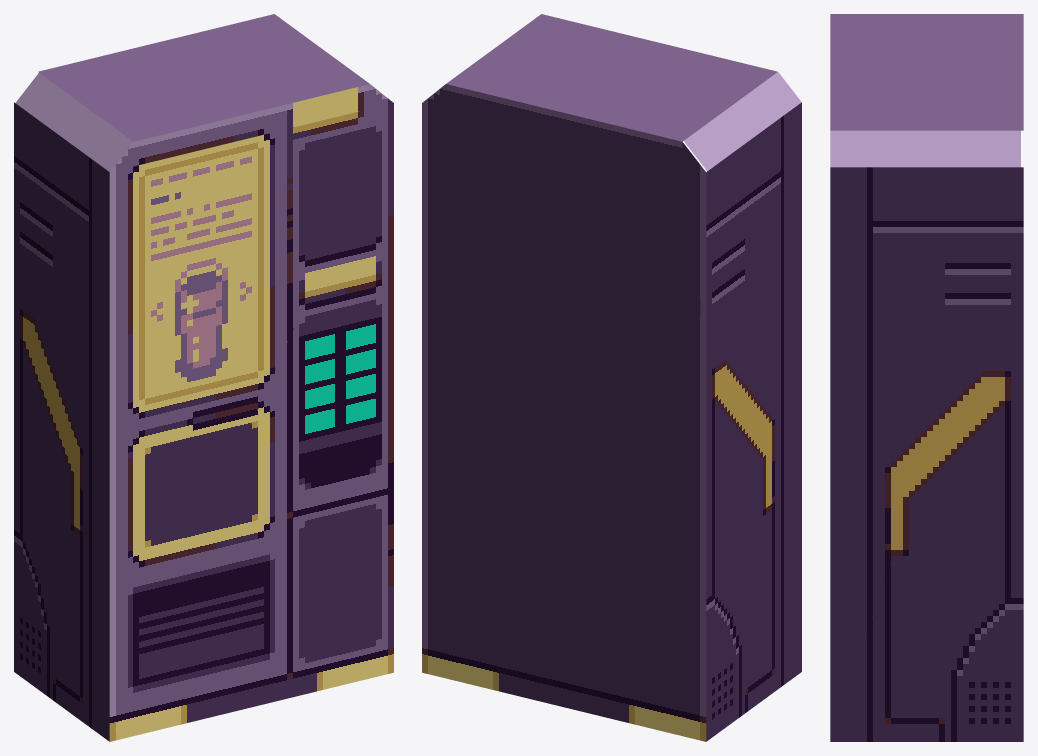
The model's file is drink-machine.gltf.
3 renders of one model, left to right at view 1: azimuth 30°, elevation 25°; view 2: azimuth 150°, elevation 25°; view 3: azimuth 270°, elevation 25°, orthographic.
Bounding box in the file's own units: 3 × 6 × 1.75.
